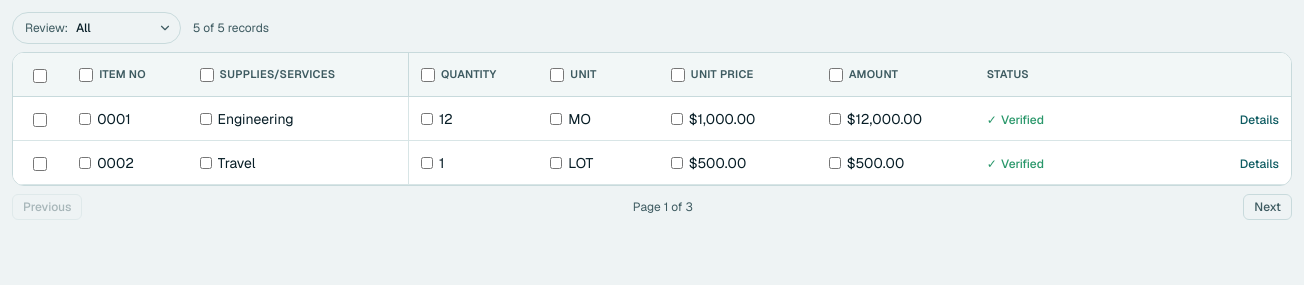
Test: StagingDatasetTable selection (contract CLINs) › the top checkbox selects the visible page; Select all N results is explicit
This screenshot has width=1304, height=285.
Click the checkbox named "Select all 2 records on this page" at (40, 76), box [33, 69, 47, 83]
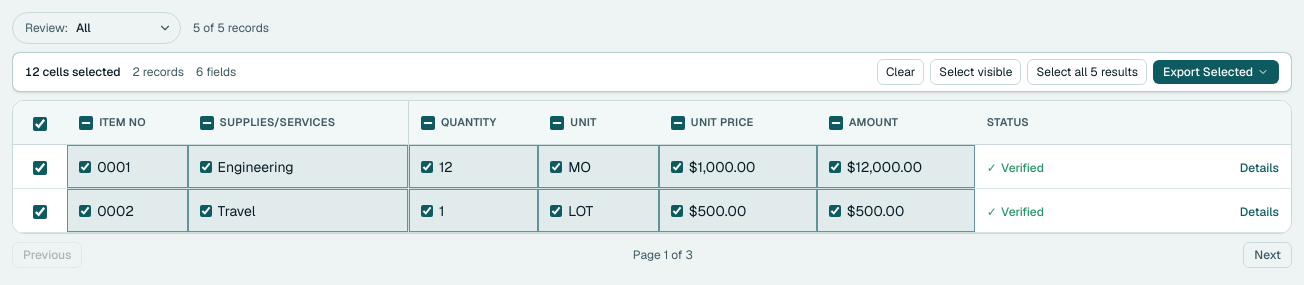
Click the button "Select all 5 results" at (1087, 72), box [1027, 59, 1147, 85]
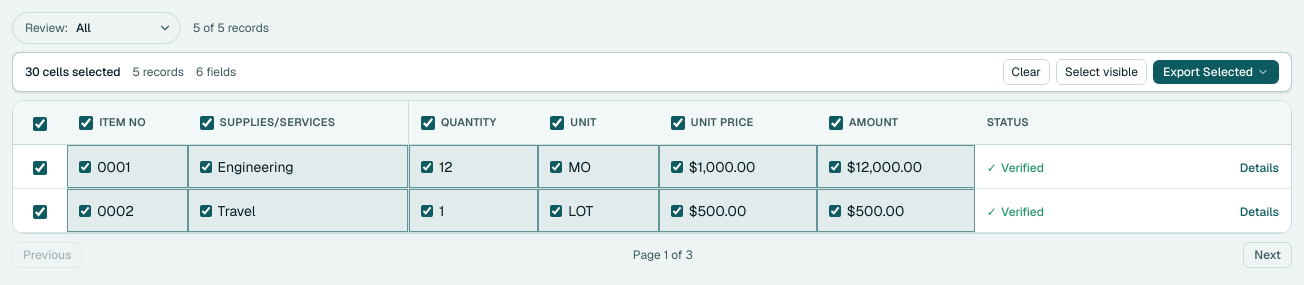
Now the element with test id "selection-toolbar" reads "30 cells selected 5 records 6 fields Clear Select visible Export Selected", box [12, 52, 1292, 92]
Now the button "Select all 5 results" is gone
